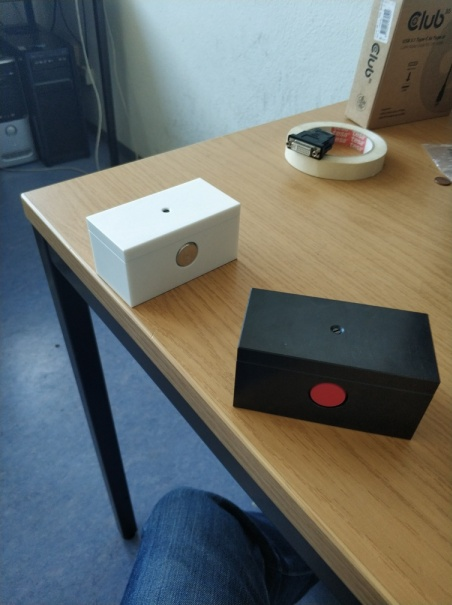black+black+red: (233, 287, 443, 442)
white+white+silver: (84, 176, 242, 310)
